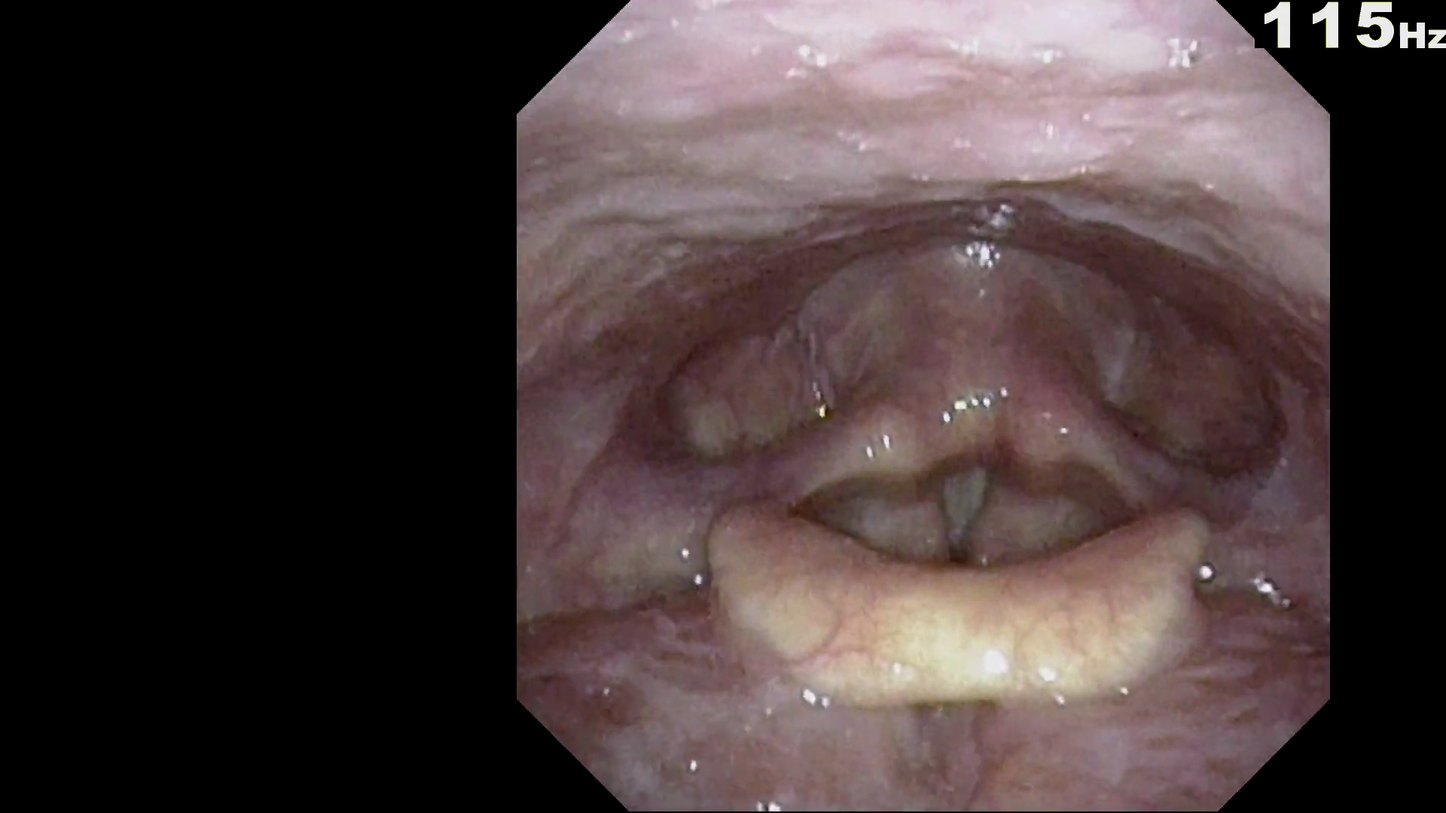epiglottis: (679, 500, 1271, 693)
trachea: (917, 443, 1029, 570)
